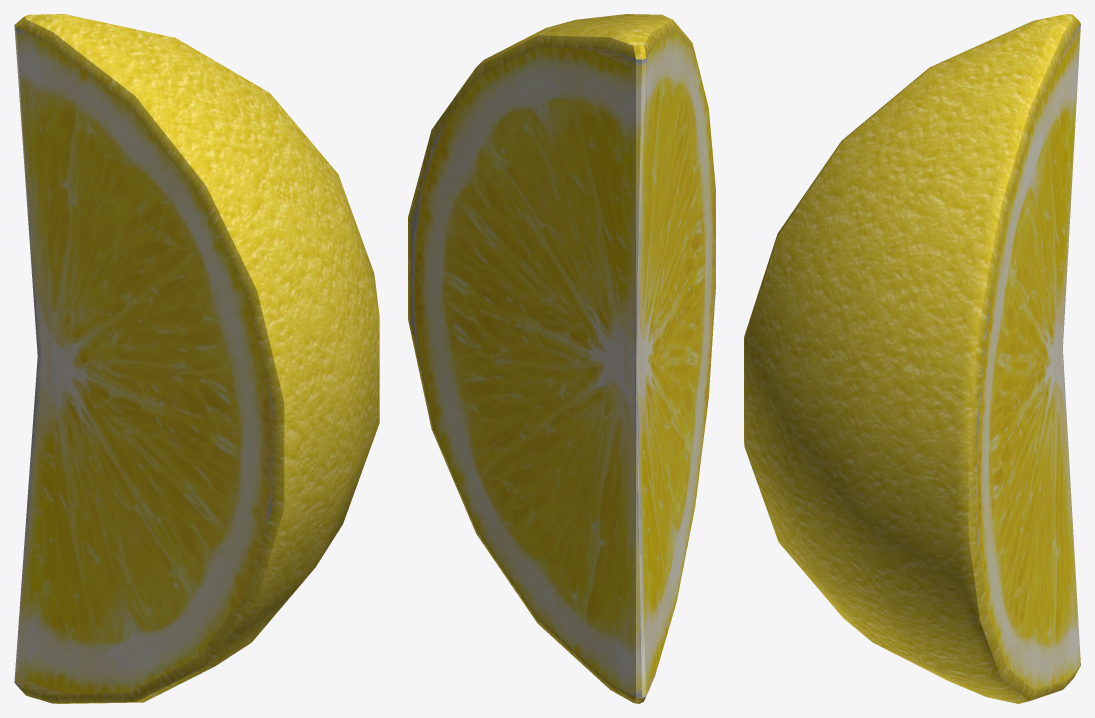
Rendered from Lemon Wedges.fbx.
3 views of the same model, side by side, from view 1: azimuth 30°, elevation 25°; view 2: azimuth 150°, elevation 25°; view 3: azimuth 270°, elevation 25° (orthographic). The views are drawn at different scales.
Parts seen in each view (by area): view 1: LemonWedges; view 2: LemonWedges; view 3: LemonWedges.
Boxes of the visible parts, left/top/right/bottom form: LemonWedges: left=14, top=14, right=379, bottom=703; LemonWedges: left=408, top=14, right=715, bottom=703; LemonWedges: left=744, top=14, right=1080, bottom=703.
Size of the model in its own units: 1.21 by 2.64 by 1.21.
1 material, 1 textured.
